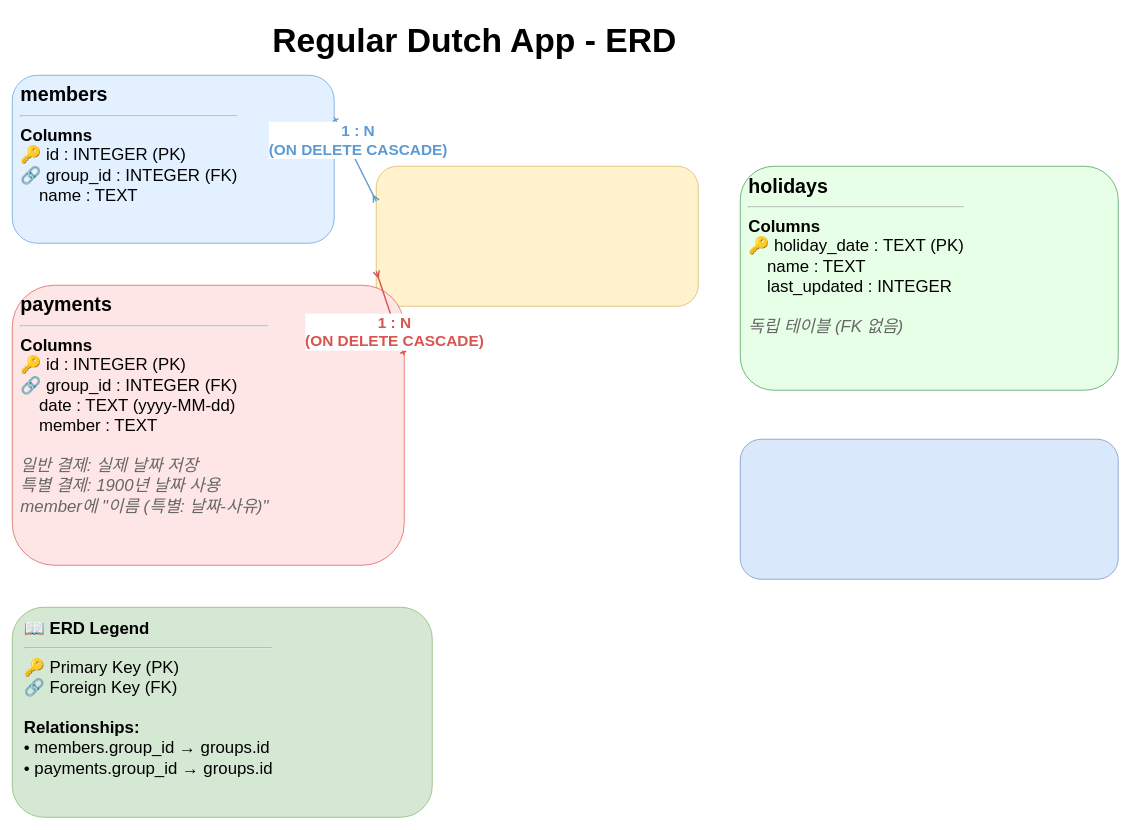
This 1131x830 diagram has some shape labels left out. Each missing label, with the centre of its shape:
"Database Info Type: SQLite (sqflite) File: group.db Version: 2 Foreign Keys: ON" goes at [929,509].
"groups Columns 🔑 id : INTEGER (PK) name : TEXT (NOT NULL)" goes at [537,236].
